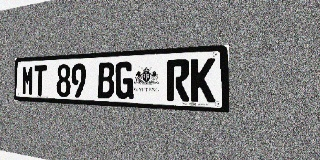8: (56, 64, 71, 97)
9: (71, 63, 86, 98)
B: (97, 62, 115, 99)
G: (115, 61, 134, 99)
K: (190, 58, 215, 102)
M: (22, 65, 34, 96)
R: (167, 59, 190, 101)
T: (34, 65, 47, 96)
